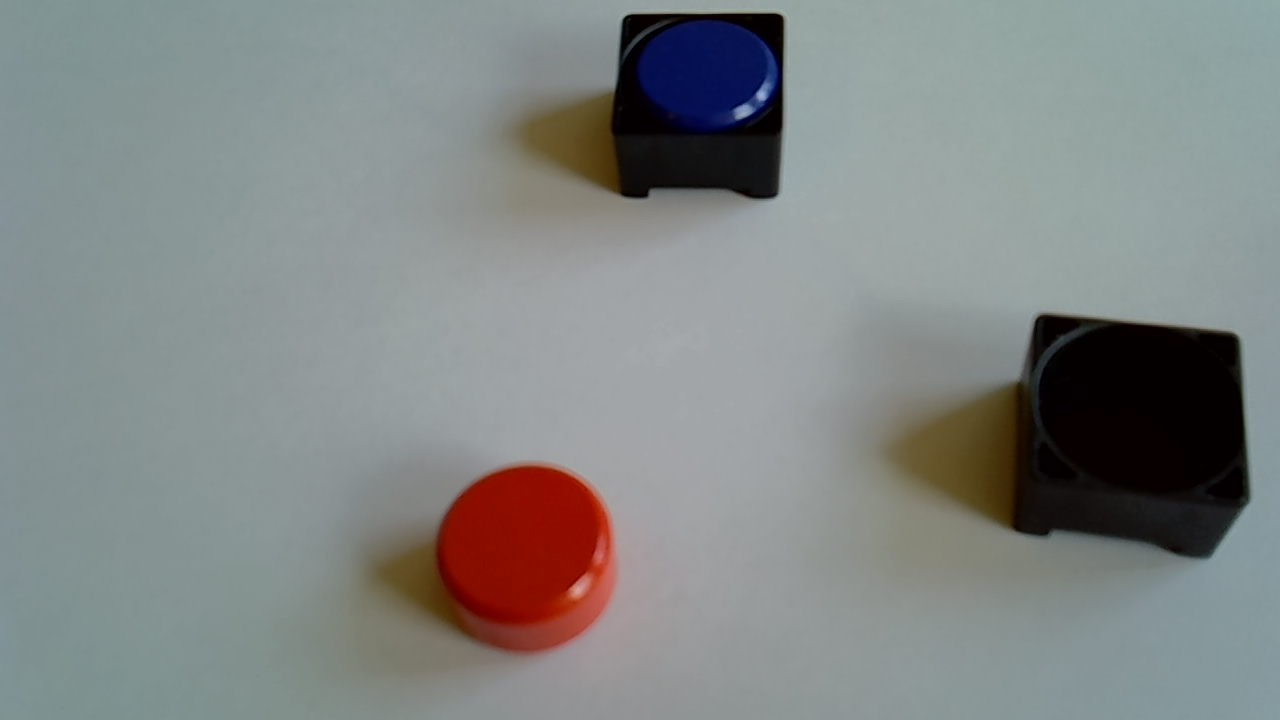Behaelter: (1009, 313, 1254, 563), (613, 10, 786, 204)
WerkStueck: (433, 462, 620, 655), (634, 16, 778, 129)
